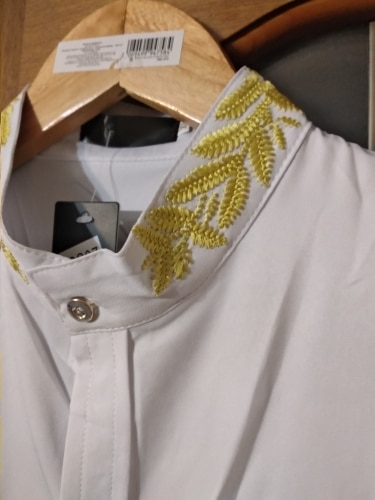shirts: (26, 68, 375, 468)
